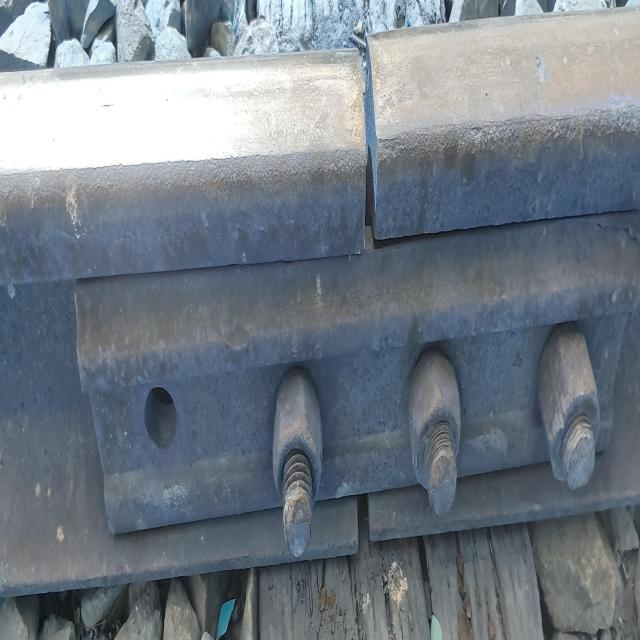railway_join_bar_defects_low: (347, 40, 395, 556)
